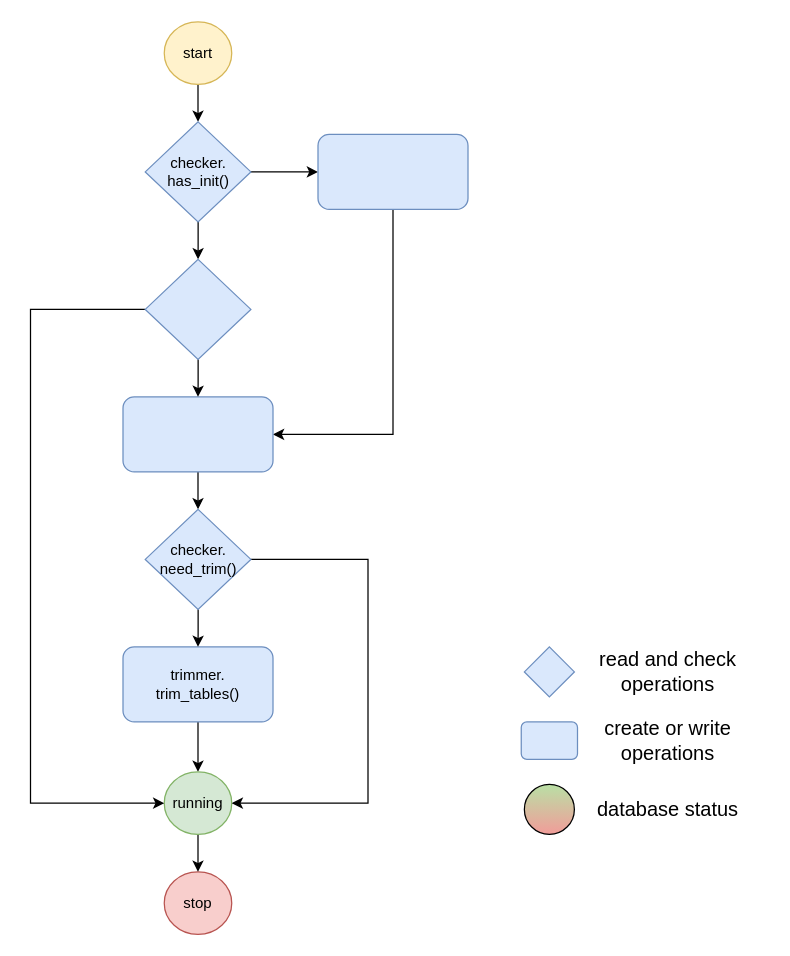
The diagram is 790 pixels wide and 956 high, and some of its shapes have lost their labels. Here are the shapes that lost their labels. From the top down, the centre of each, then its label:
At pixel 392 171: "builder. create_tables()".
At pixel 197 308: "checker. need_upd()".
At pixel 197 434: "writer. fill_tables()".
